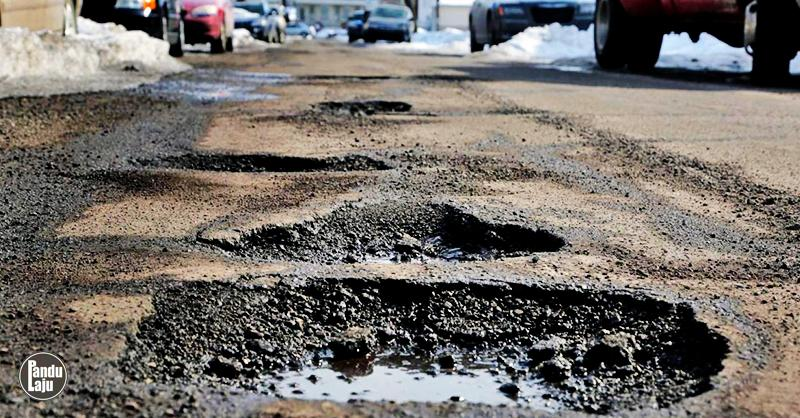Pothole: (103, 279, 768, 418), (199, 193, 586, 281), (98, 124, 390, 206), (255, 54, 498, 103), (273, 93, 434, 141)
